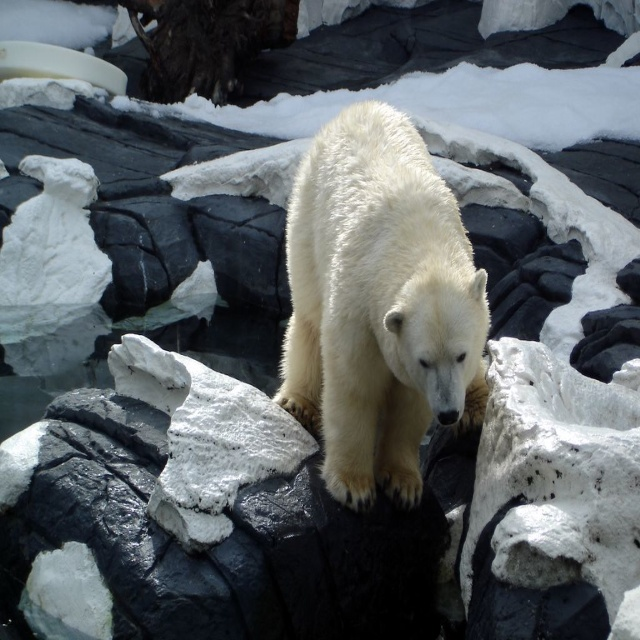Polar bear: (272, 101, 491, 514)
